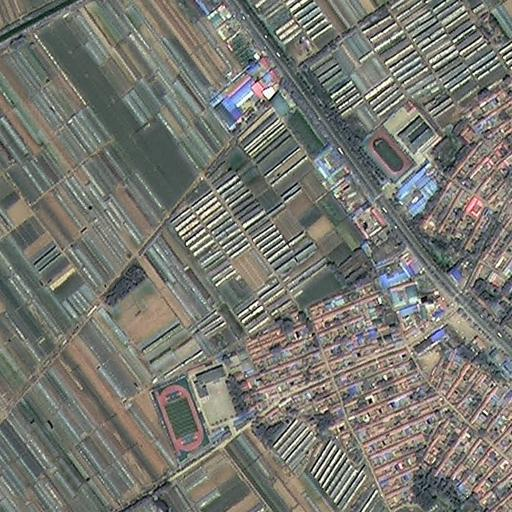school: (149, 362, 242, 456), (359, 99, 442, 180)
